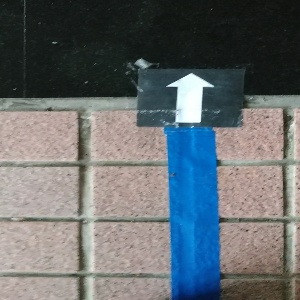straight: (138, 67, 244, 127)
